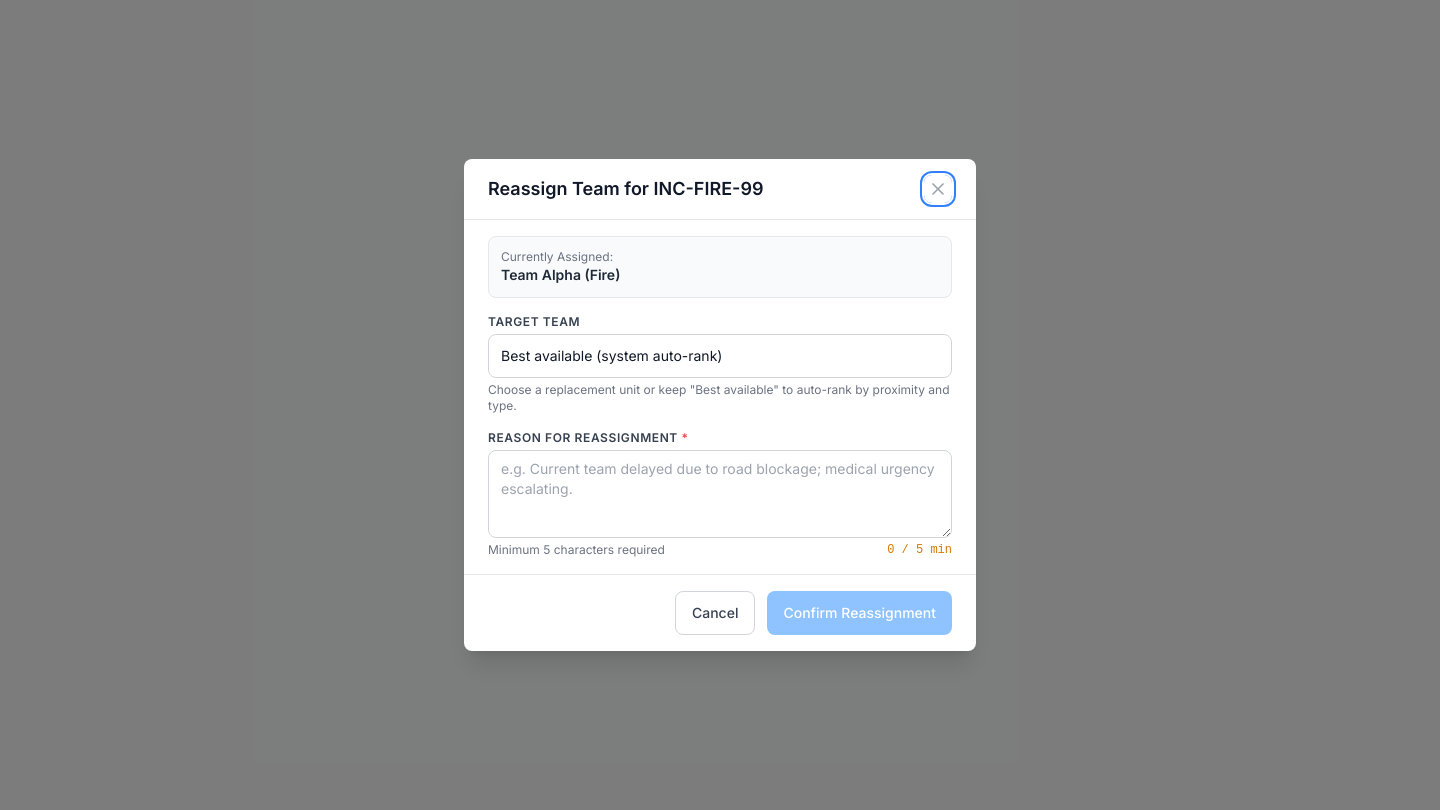
ReassignModal (Reason Mandatory >= 5 Chars) › maps NO_TEAM_AVAILABLE error code to friendly message
The image size is (1440, 810).
Type "Team stuck in traffic" into the text box labelled "Reason for Reassignment *". click: (720, 494)
box: x1=488 y1=450 x2=952 y2=538
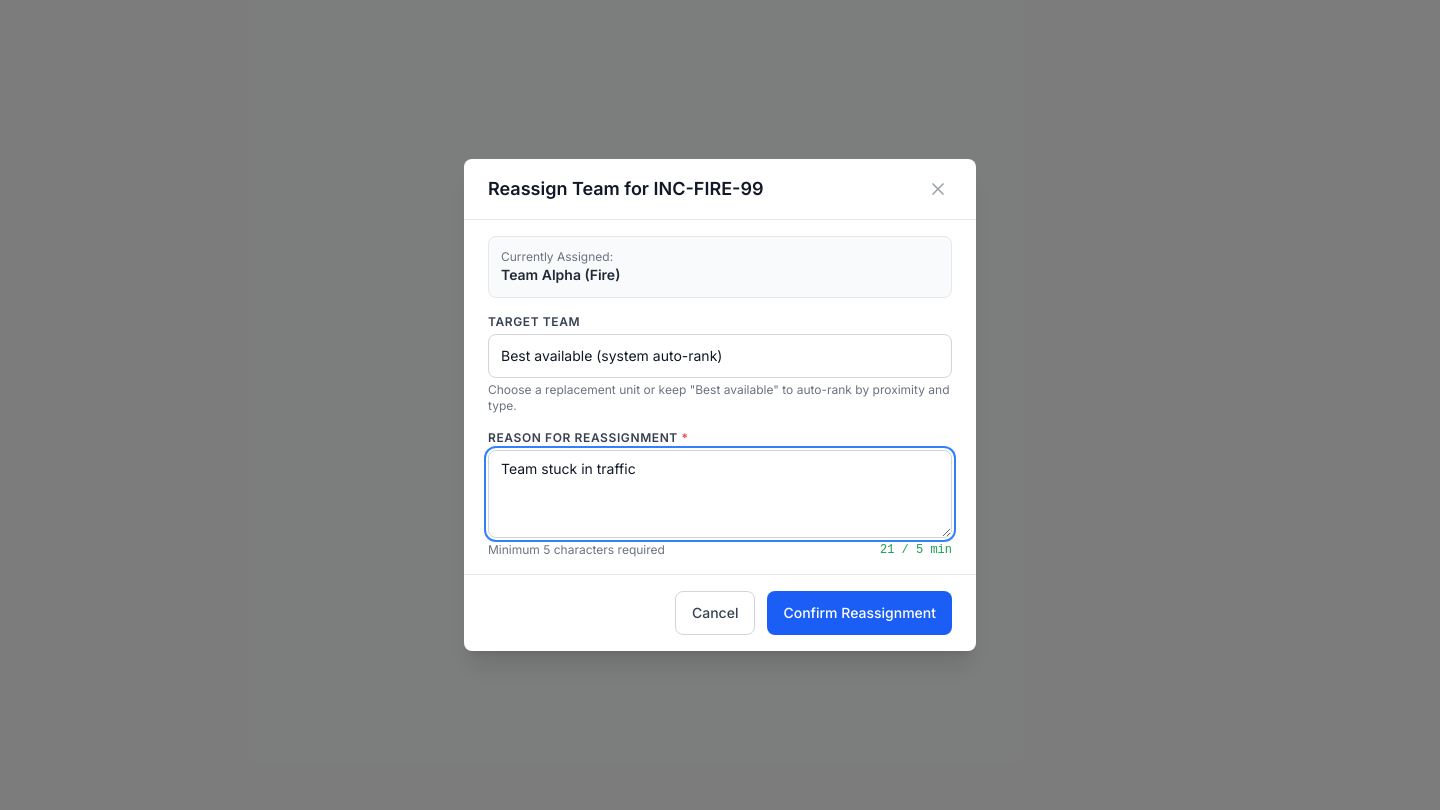
Click the button "Confirm Reassignment". click: (860, 613)
box: x1=768 y1=591 x2=952 y2=635
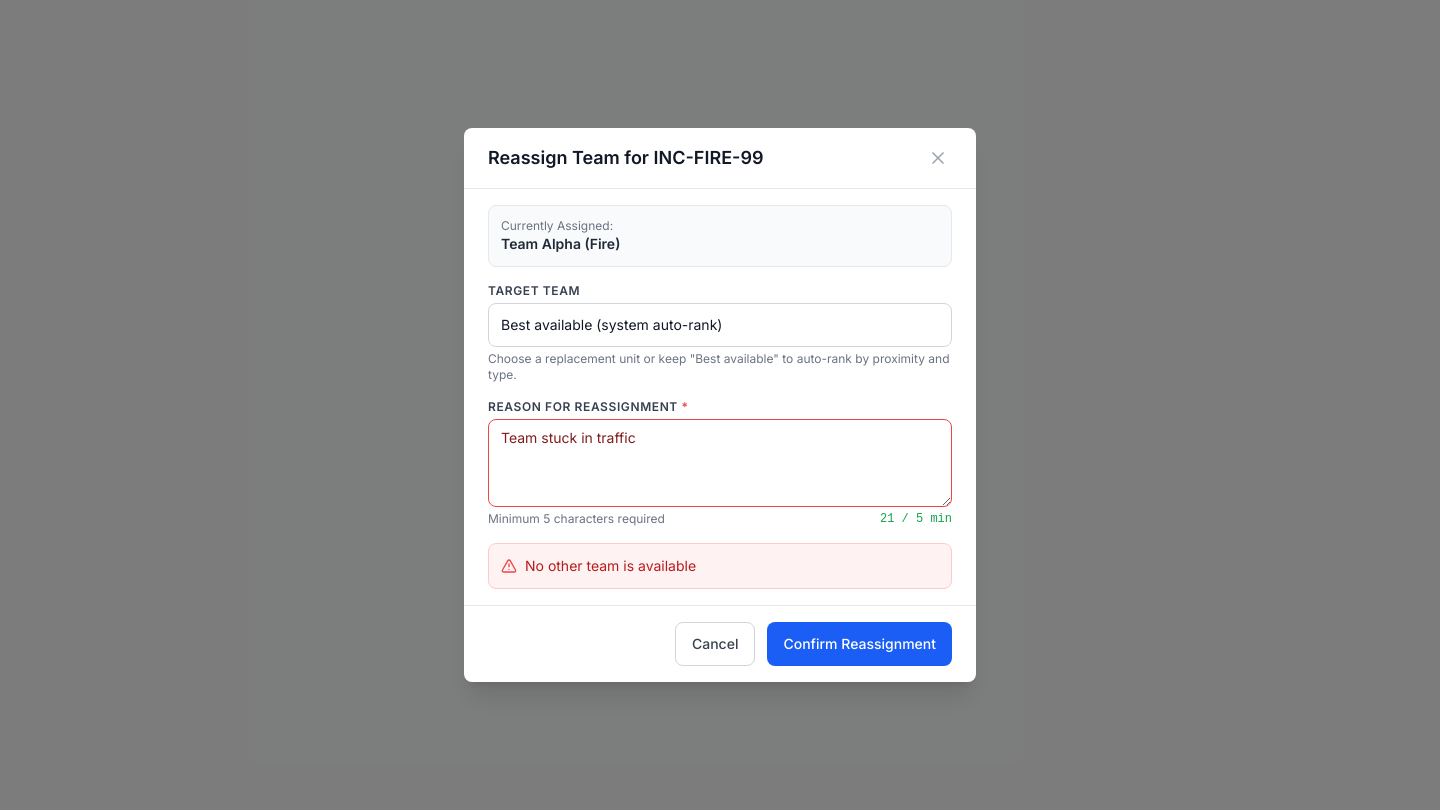
Now the text "No other team is available" is shown, box x1=525 y1=556 x2=696 y2=576
